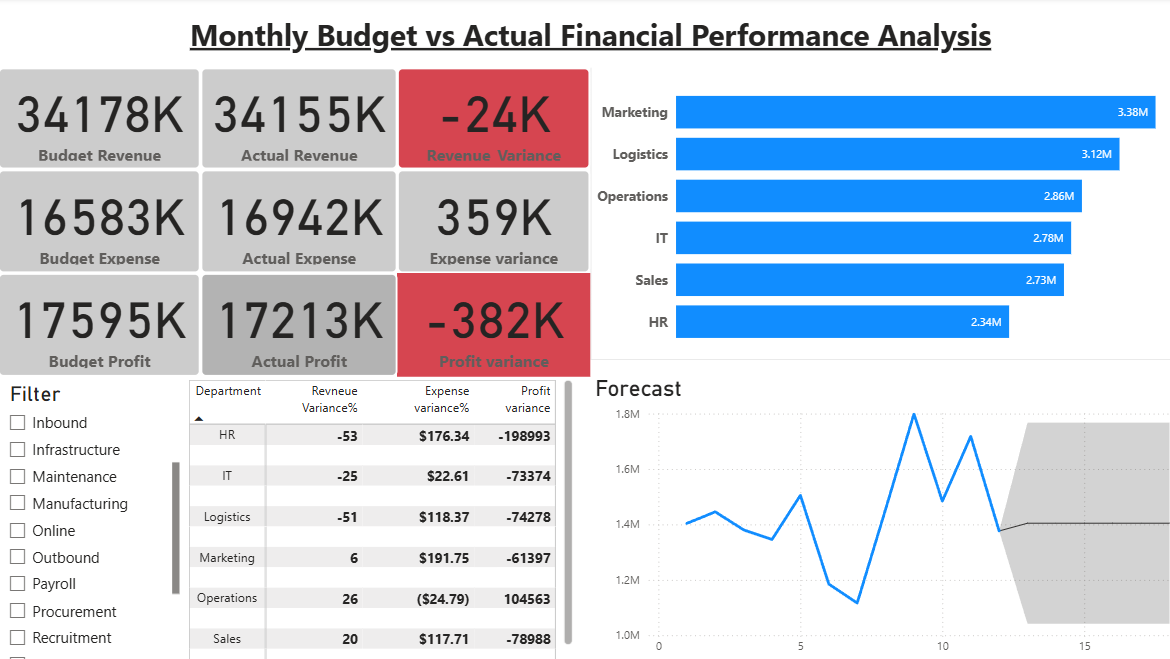

What the dashboard file says about the page in this screenshot:
{"tool":"powerbi","page":{"name":"Page 1","canvas":[1280,720],"ordinal":0},"visuals":[{"type":"card","fields":{"Values":["Sum(finance sheet.Budget_Revenue)"]},"box":[0,75.6,218.6,109.8],"z":0,"group":"g1"},{"type":"barChart","title":"Department Level","fields":{"Category":["finance sheet.Department"],"Y":["Sum(finance sheet.Actual_Profit)"]},"box":[639.6,45.3,639.6,346.5],"z":0},{"type":"card","fields":{"Values":["Sum(finance sheet.Revenue_Variance)"]},"box":[431.2,75.6,208.5,109.8],"z":1000,"group":"g1"},{"type":"lineChart","title":"Forecast","fields":{"Category":["DateTable.MonthNumber"],"Y":["Sum(finance sheet.Actual_Profit)"]},"box":[639.7,408.7,639.7,310.6],"z":1000},{"type":"card","fields":{"Values":["Sum(finance sheet.Actual_Revenue)"]},"box":[218.6,75.6,212.5,109.8],"z":2000,"group":"g1"},{"type":"pivotTable","fields":{"Rows":["finance sheet.Department"],"Values":["Sum(finance sheet.Revneue_Variance%)","Sum(finance sheet.Expense_variance%)","Sum(finance sheet.Profit_variance)"]},"box":[200.8,408,424.2,310.9],"z":2000},{"type":"group","id":"g1","title":"Group 1","box":[0,75.6,639.7,333.1],"z":3000},{"type":"card","fields":{"Values":["Sum(finance sheet.Budget_Expense)"]},"box":[0,185.4,218.6,111.7],"z":3000,"group":"g1"},{"type":"slicer","fields":{"Values":["finance sheet.Cost_Center"]},"box":[0,409.7,200.8,310.9],"z":3001},{"type":"textbox","box":[0,13,1279.2,63.1],"z":3002},{"type":"card","fields":{"Values":["Sum(finance sheet.Expense_variance)"]},"box":[431.2,185.4,208.5,111.7],"z":4000,"group":"g1"},{"type":"card","fields":{"Values":["Sum(finance sheet.Actual_Expense)"]},"box":[218.6,185.4,212.5,111.7],"z":5000,"group":"g1"},{"type":"card","fields":{"Values":["Sum(finance sheet.Profit_variance)"]},"box":[431.2,297,208.5,111.7],"z":6000,"group":"g1"},{"type":"card","fields":{"Values":["Sum(finance sheet.Actual_Profit)"]},"box":[218.6,297,212.5,111.7],"z":7000,"group":"g1"},{"type":"card","fields":{"Values":["Sum(finance sheet.Budget_Profit)"]},"box":[0,297,218.6,111.7],"z":8000,"group":"g1"}]}

Visuals, with their boxes in screenshot pixels (x1, y1, x2, y2), scaled from the page's 1280x720 canvas onto the 1170x659 screenshot:
card - Sum(finance sheet.Budget_Revenue): 0, 69, 200, 170
"Department Level" barChart: 585, 41, 1169, 359
card - Sum(finance sheet.Revenue_Variance): 394, 69, 585, 170
"Forecast" lineChart: 585, 374, 1169, 658
card - Sum(finance sheet.Actual_Revenue): 200, 69, 394, 170
pivotTable - finance sheet.Department x Sum(finance sheet.Revneue_Variance%): 184, 373, 571, 658
"Group 1" group: 0, 69, 585, 374
card - Sum(finance sheet.Budget_Expense): 0, 170, 200, 272
slicer - finance sheet.Cost_Center: 0, 375, 184, 658
textbox: 0, 12, 1169, 70
card - Sum(finance sheet.Expense_variance): 394, 170, 585, 272
card - Sum(finance sheet.Actual_Expense): 200, 170, 394, 272
card - Sum(finance sheet.Profit_variance): 394, 272, 585, 374
card - Sum(finance sheet.Actual_Profit): 200, 272, 394, 374
card - Sum(finance sheet.Budget_Profit): 0, 272, 200, 374
